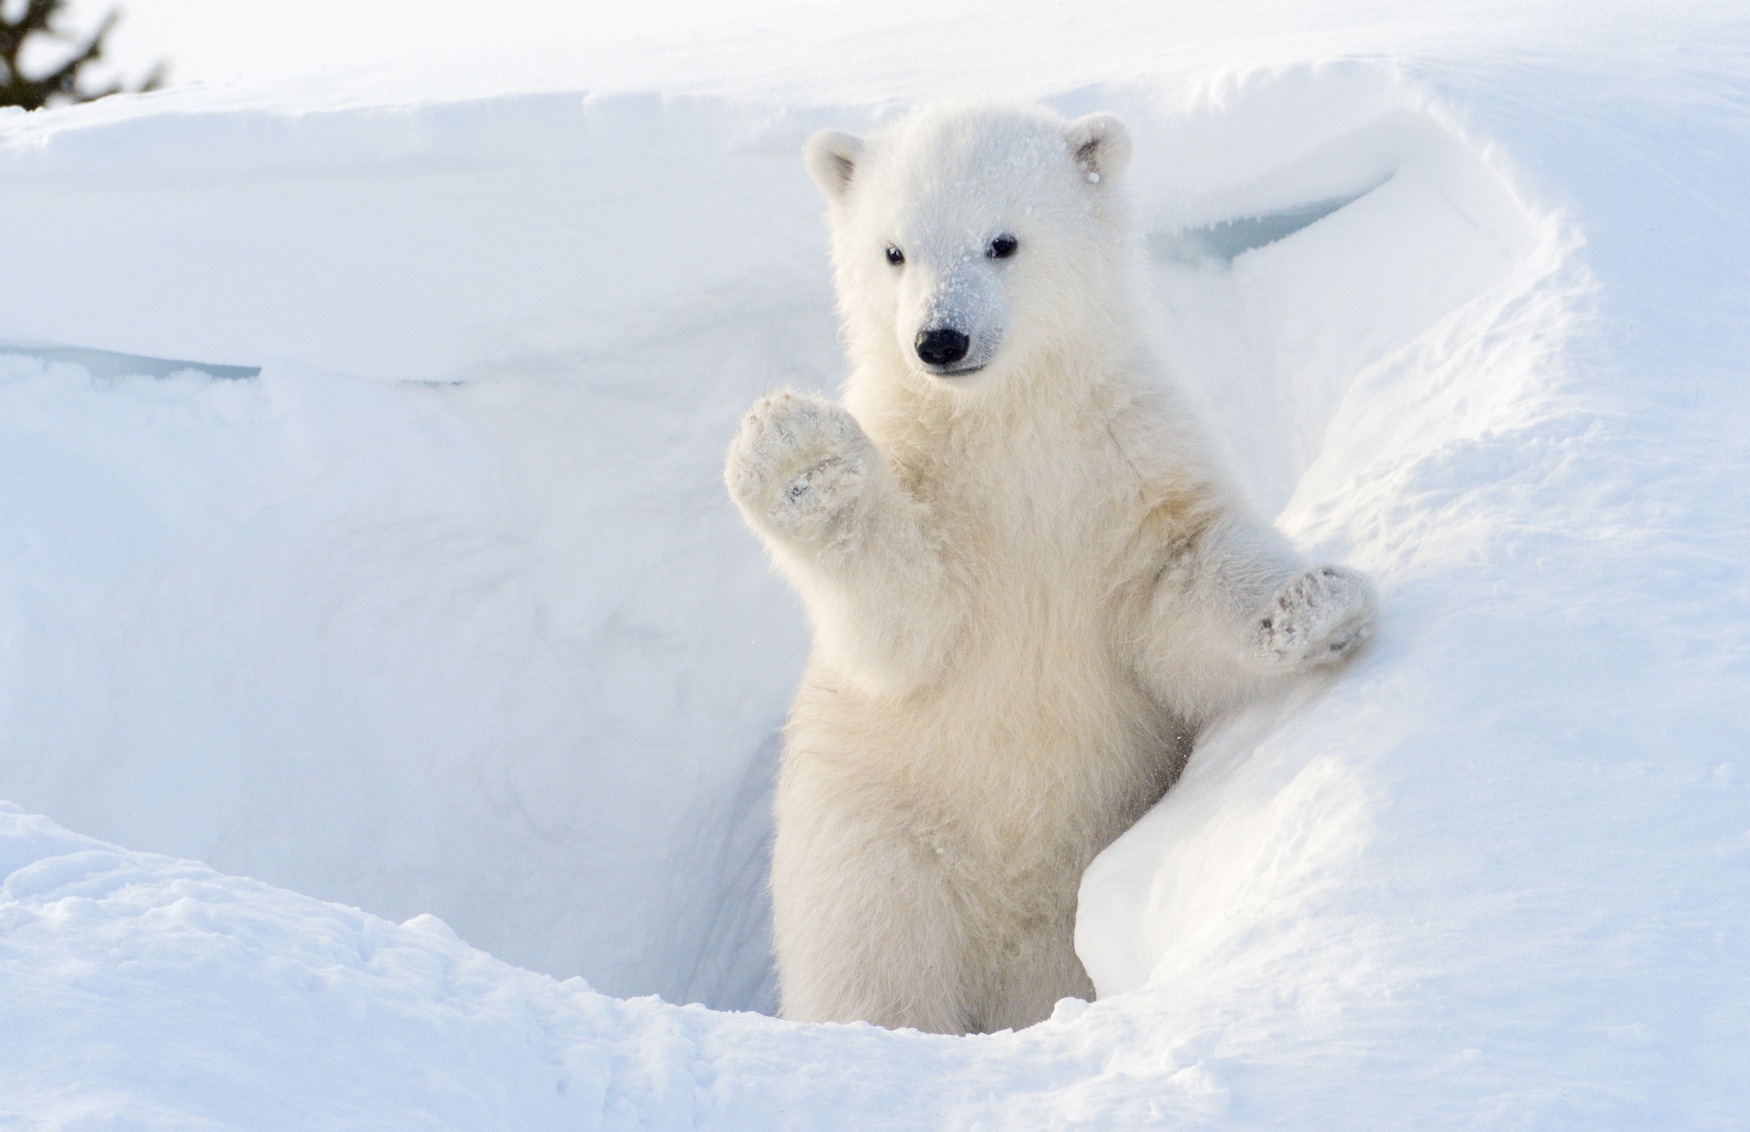Polar Bear: (719, 45, 1423, 1132)
